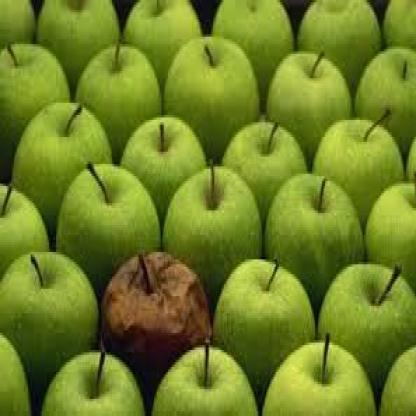apple: (1, 257, 98, 355)
damaged_apple: (106, 252, 206, 367)
